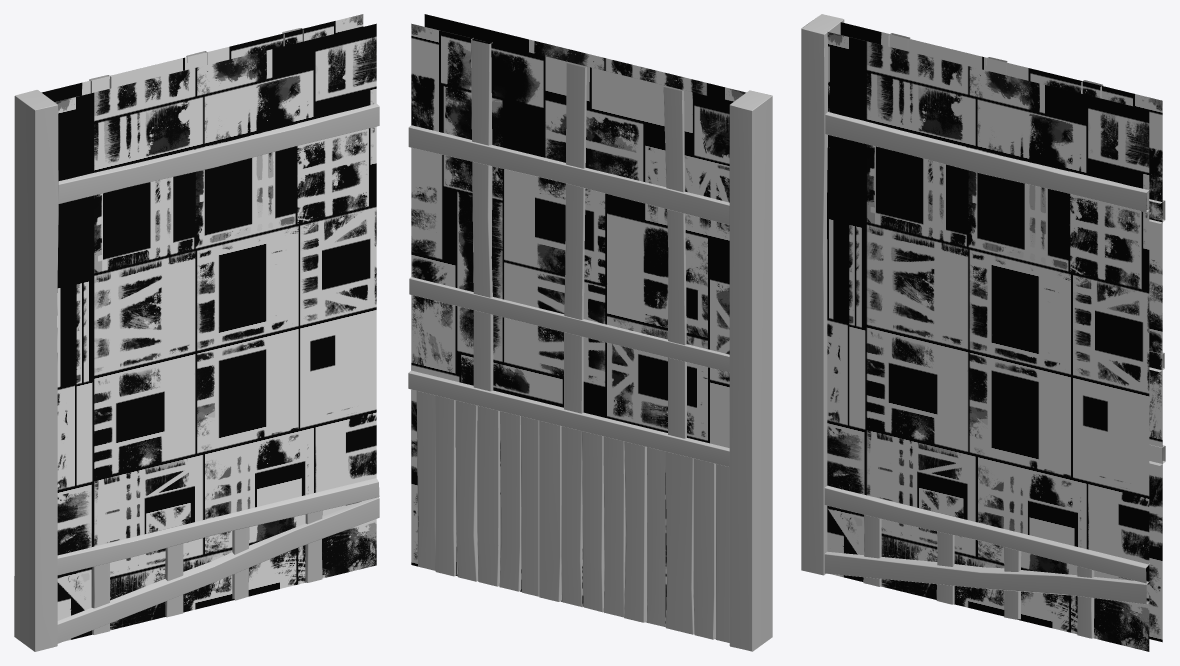
File: SM_wall01_Wall_002.fbx
The picture shows the model from 3 angles, left to right: view 1: azimuth 30°, elevation 25°; view 2: azimuth 150°, elevation 25°; view 3: azimuth 330°, elevation 25°; orthographic projection.
Parts seen in each view (by area): view 1: SM_wall01_Wall_002_LOD0; view 2: SM_wall01_Wall_002_LOD0; view 3: SM_wall01_Wall_002_LOD0.
Boxes of the visible parts, <box> form: SM_wall01_Wall_002_LOD0: <box>14,14,379,651</box>; SM_wall01_Wall_002_LOD0: <box>408,14,772,651</box>; SM_wall01_Wall_002_LOD0: <box>801,14,1165,651</box>.
Size of the model in its own units: 300 by 31.03 by 451.
